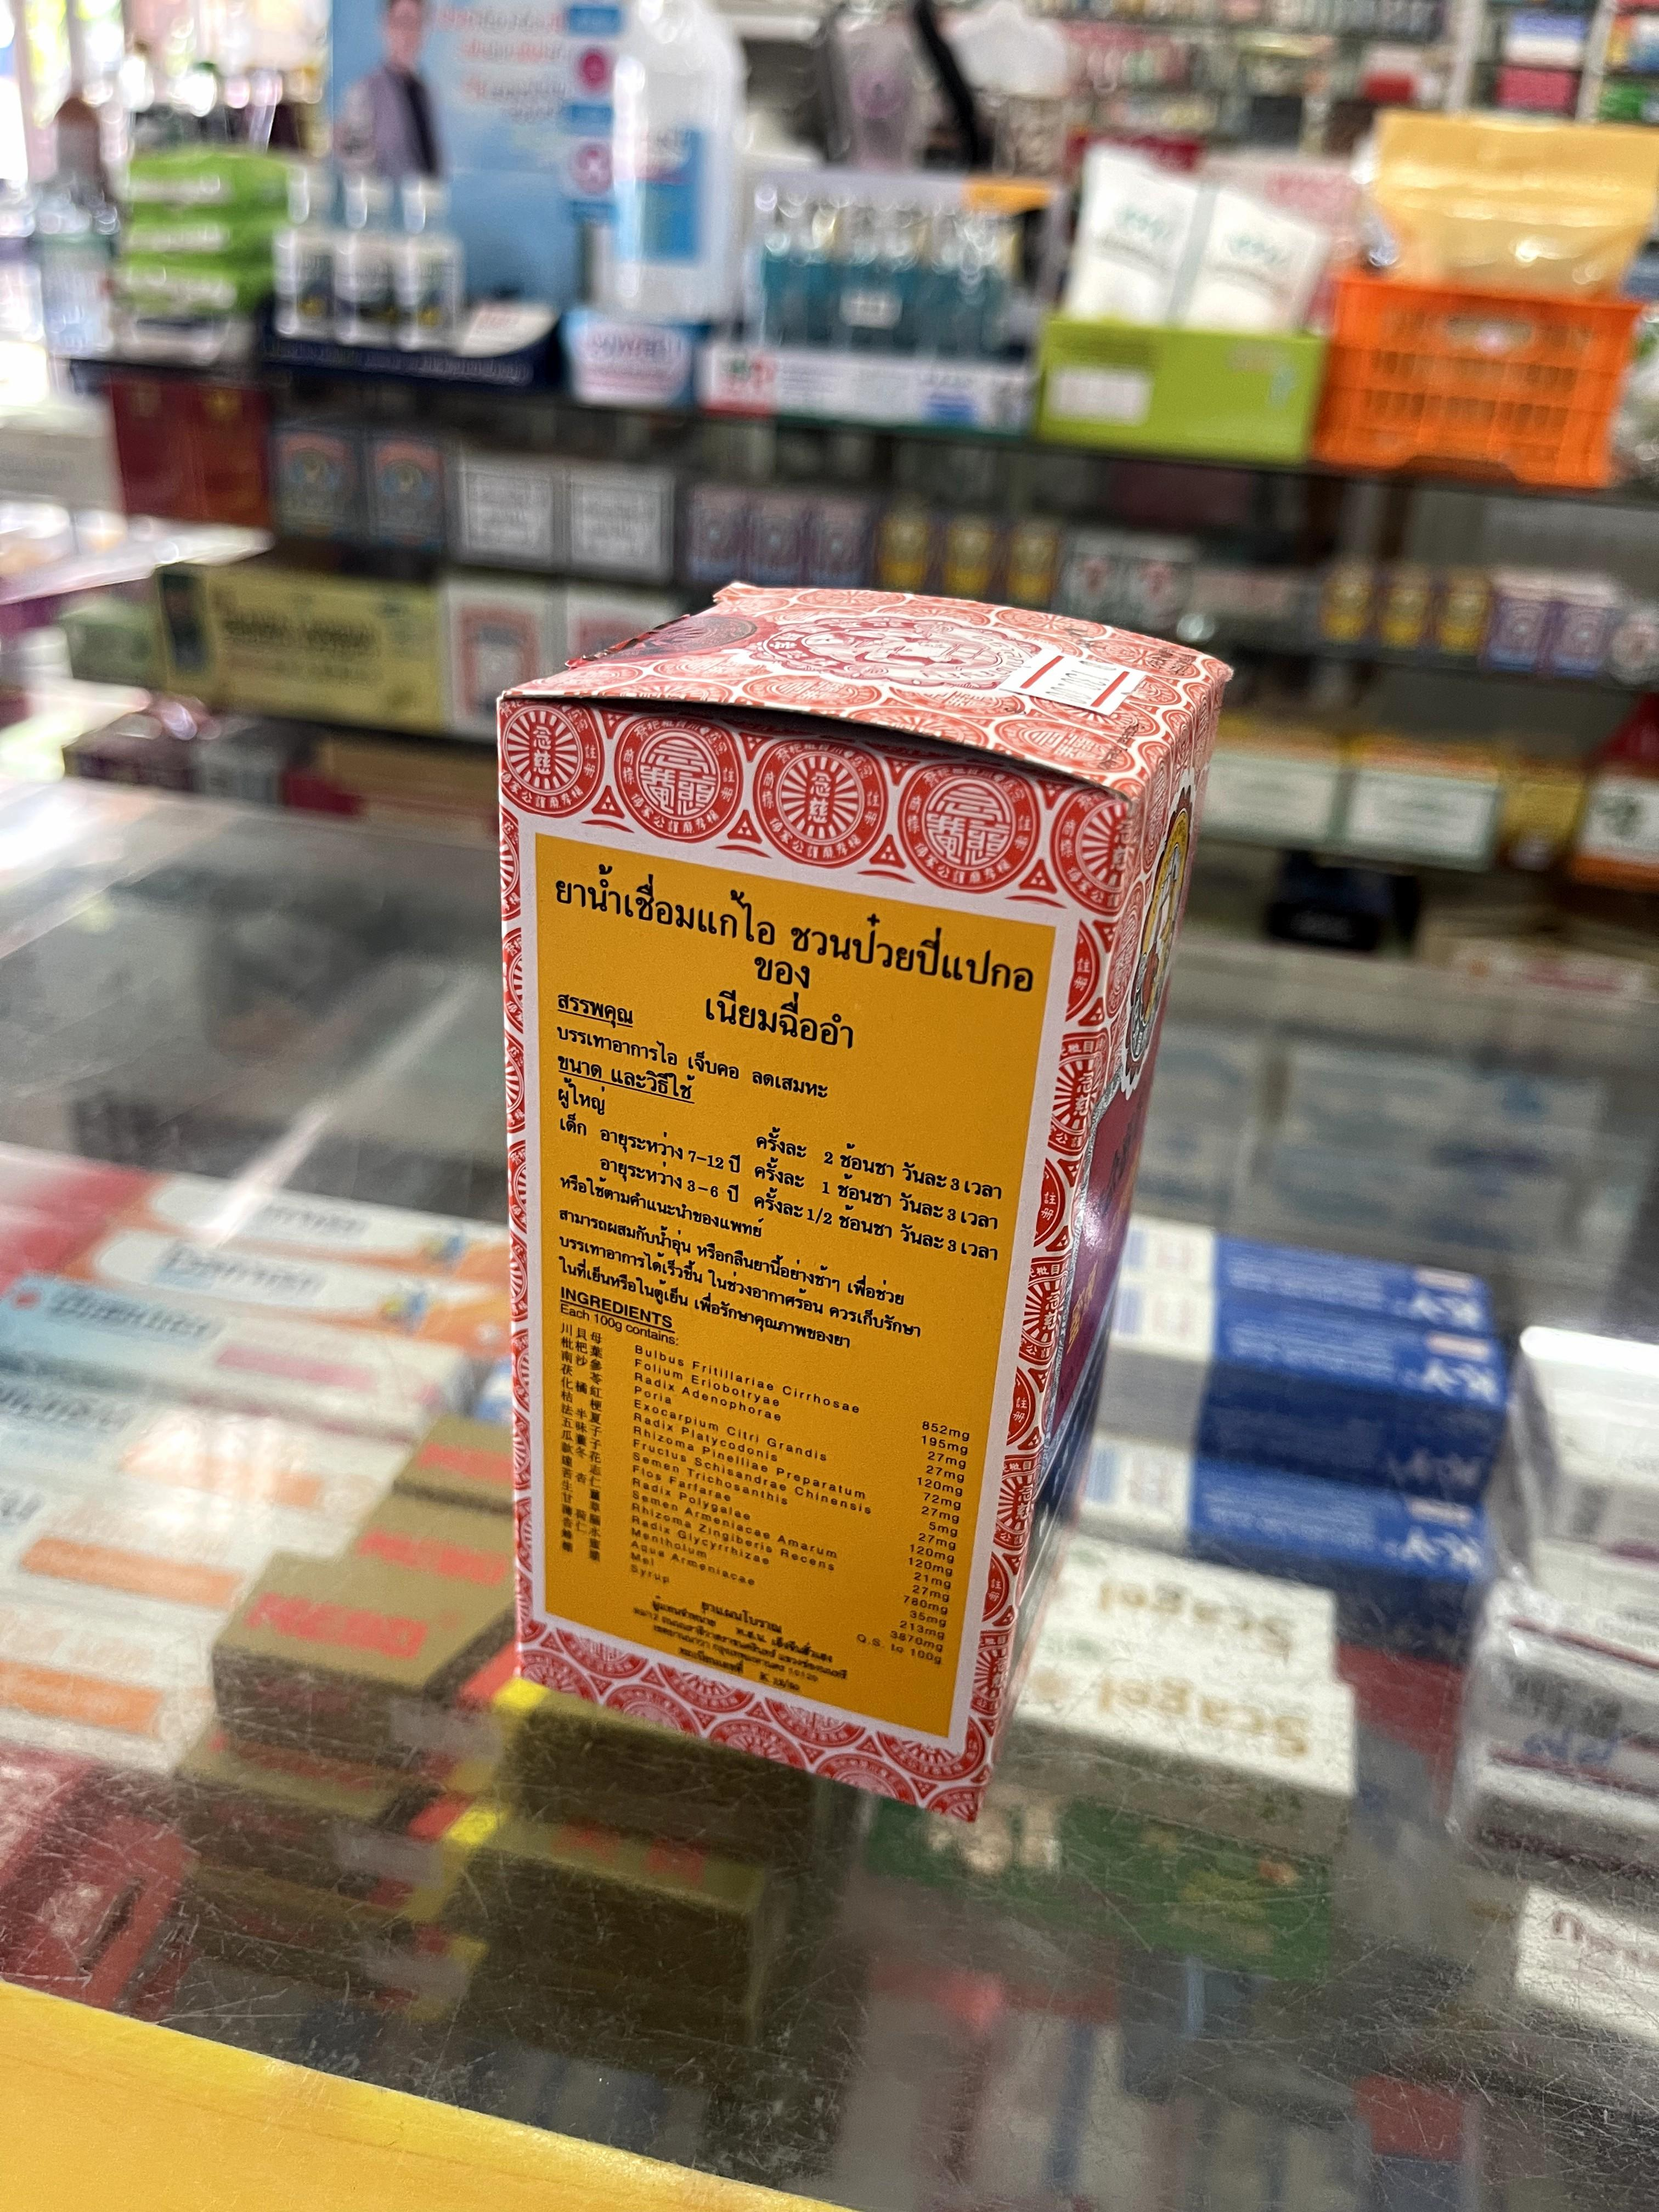Pei-Pa-Koa_Big: (498, 590, 1220, 1822)
